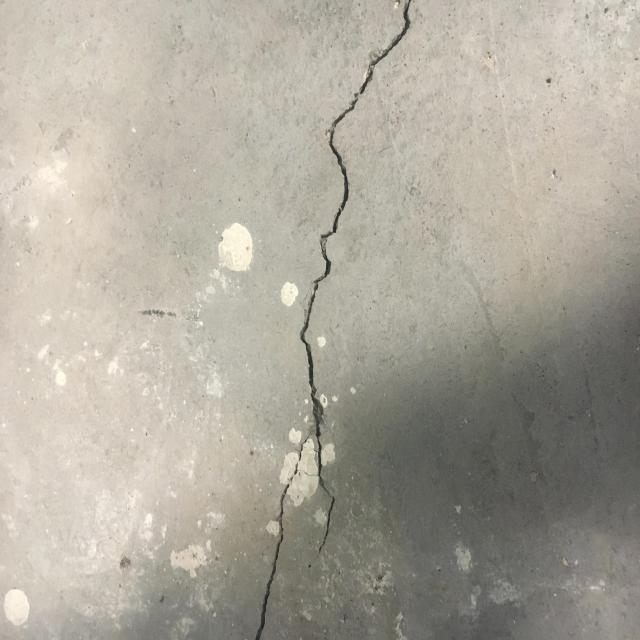Rachadura: (247, 0, 417, 640)
